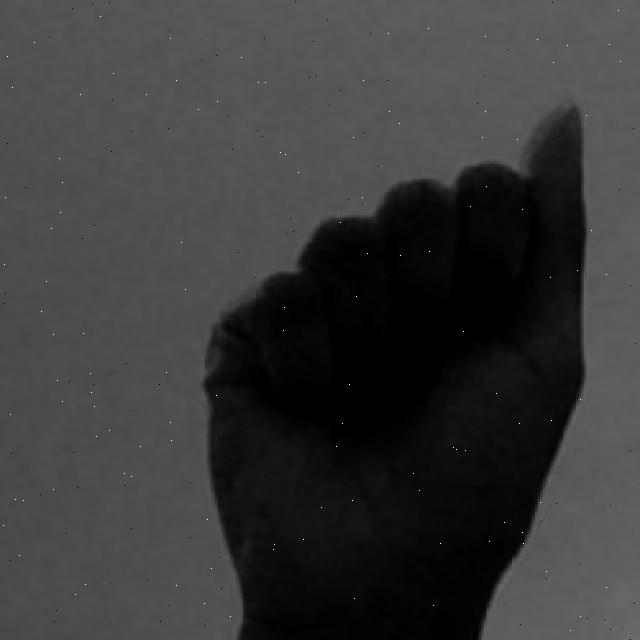A: (191, 94, 596, 640)
